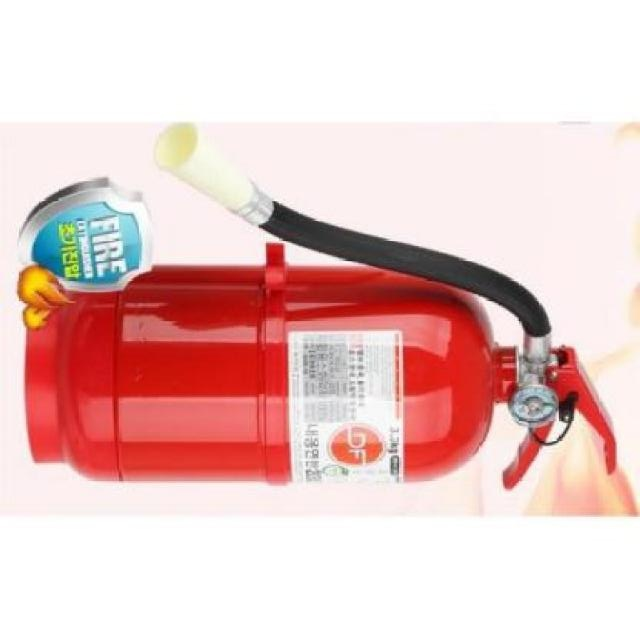fire extinguisher: (25, 122, 619, 490)
